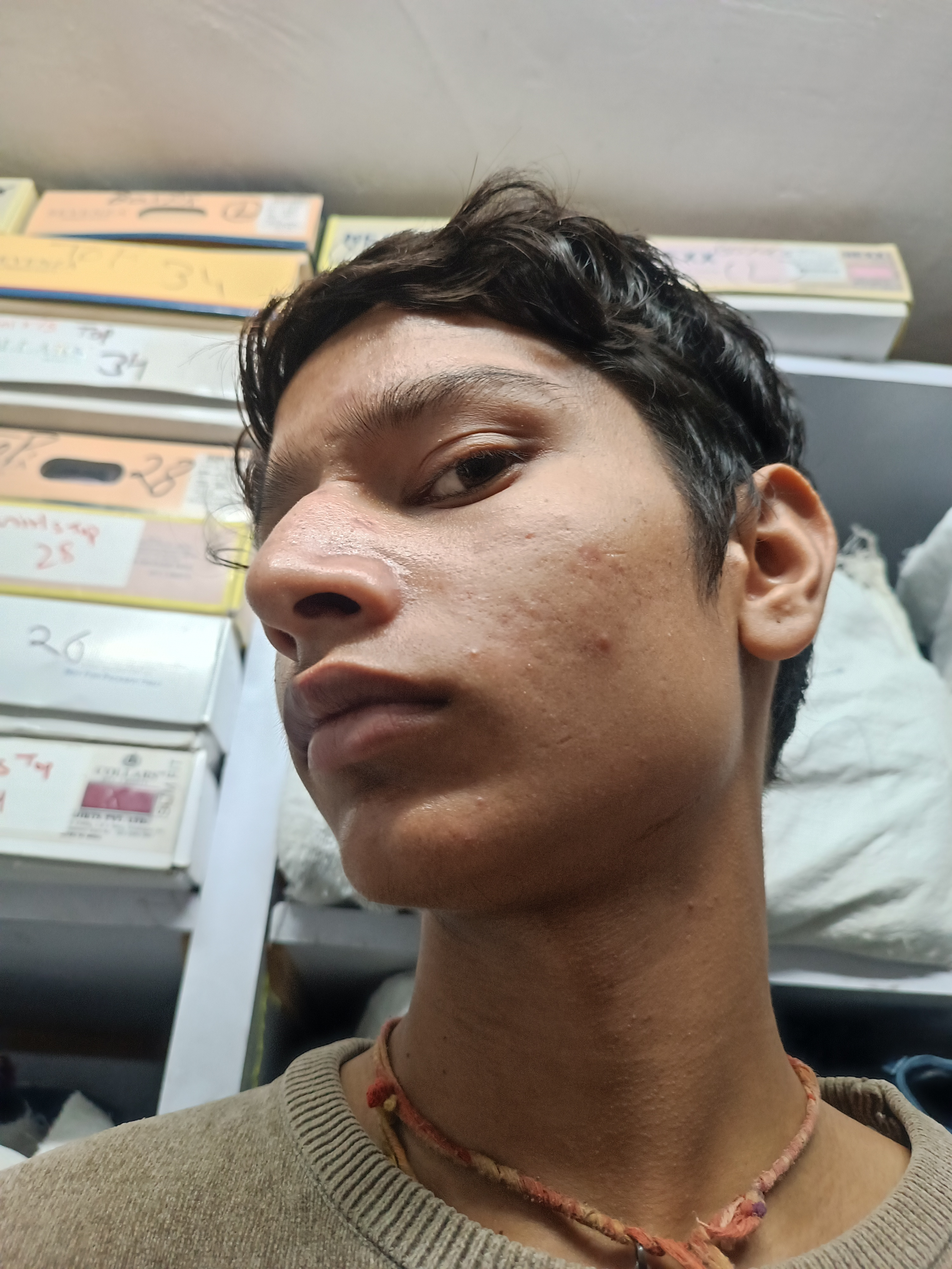macrocomedone: (467, 788, 501, 812), (465, 642, 485, 661)
papule: (591, 628, 621, 652)
